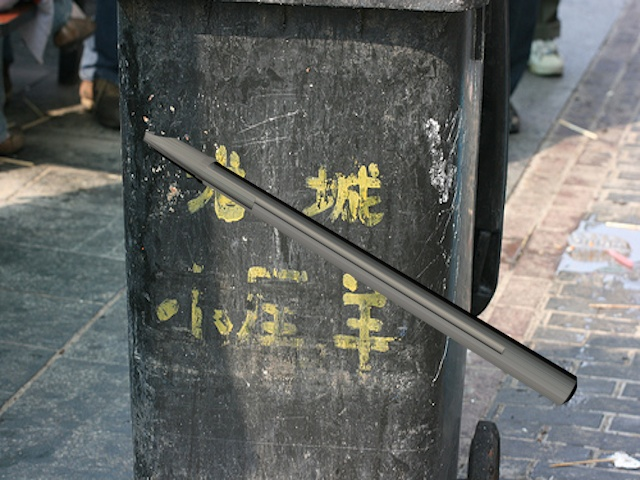pen: (137, 129, 584, 416)
